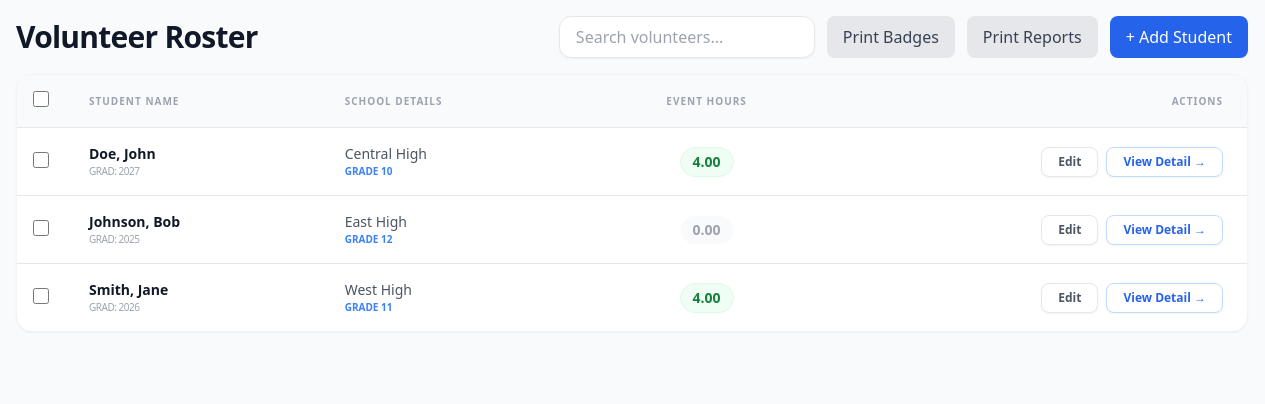
Test: StudentsPage › bulk selection › should clear selection when Clear Selection button is clicked
The width and height of the screenshot is (1265, 404).
Expected: the text "Doe, John" is shown, [89,144,156,163]
Select a student (use first checkbox)
Click the checkbox named "Select John Doe" at {"x": 41, "y": 160}, box [33,152,49,168]
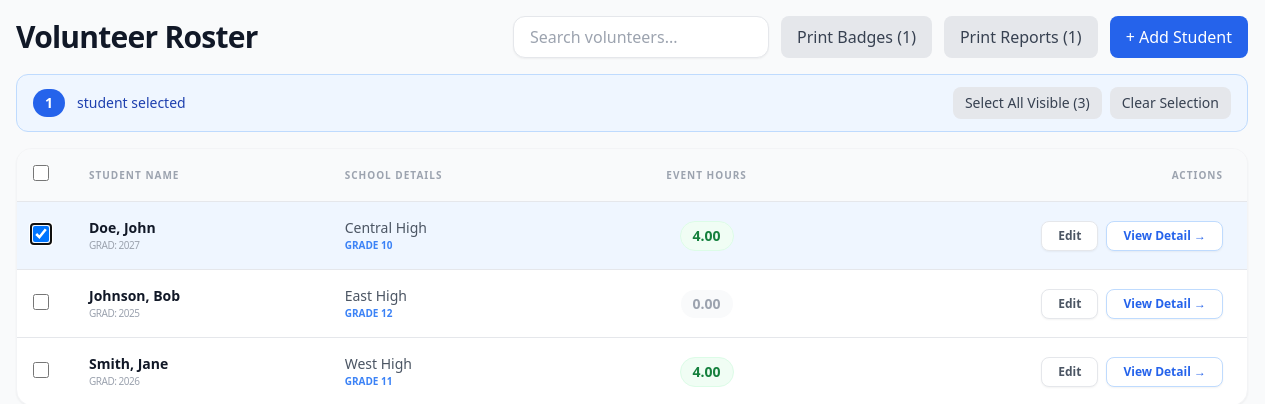
Result: the text "student selected" is shown at [77,93,186,113]
Click Clear Selection
Click the button "Clear Selection" at {"x": 1170, "y": 103}, box [1110,87,1231,119]
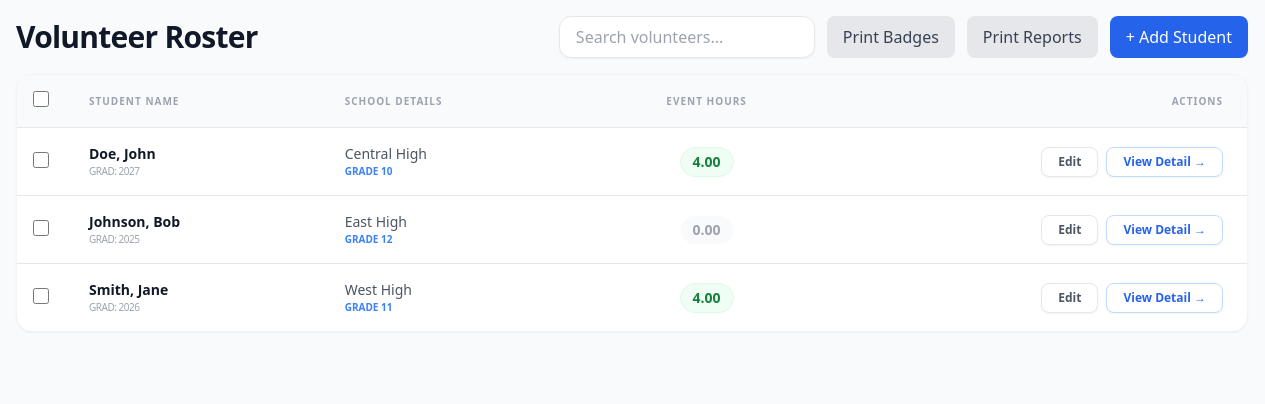
Result: the checkbox named "Select John Doe" is not checked at [33,152,49,168]
Result: the text "student selected" is gone
